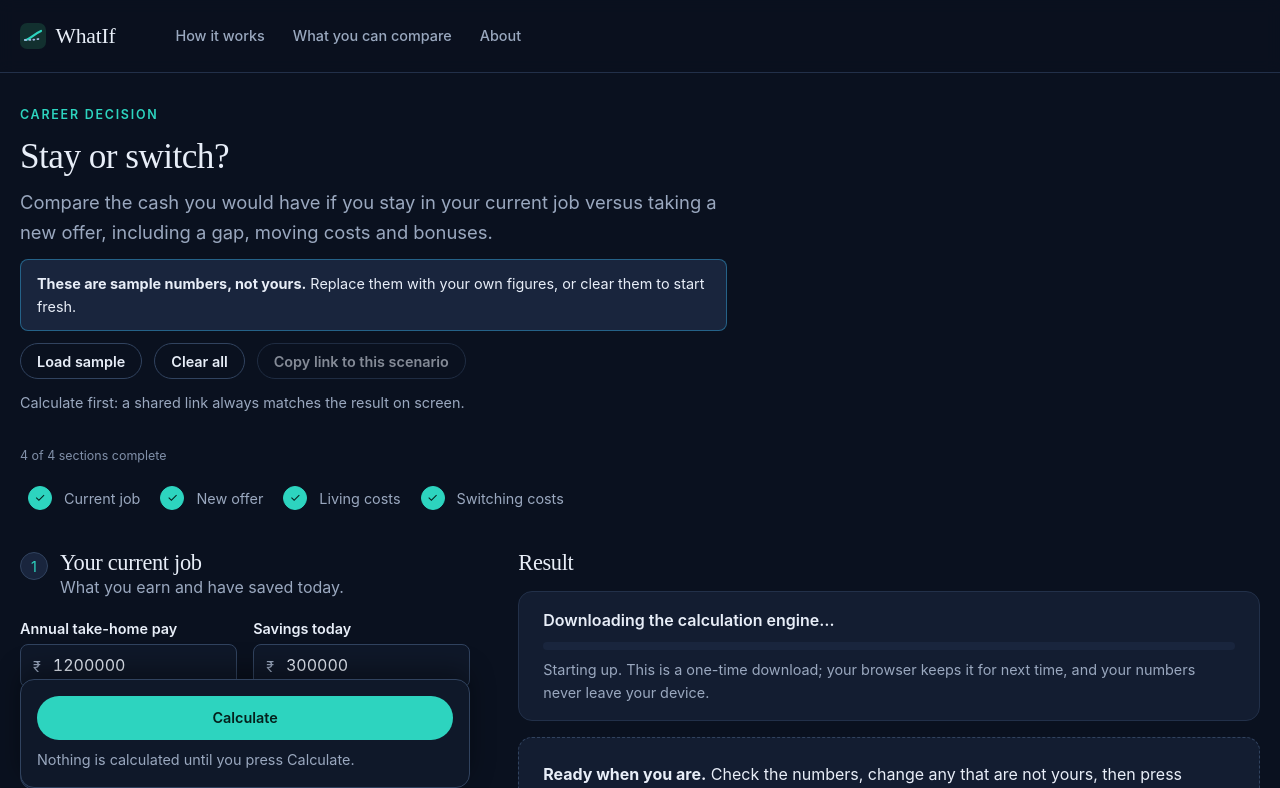
it: decision workspace › labels sample data and renders engine results when Calculate is pressed
Expected: the text "These are sample numbers, not yours." is shown, [37,275,306,292]
Click the button "Calculate". click: x=245, y=718
box: [37,696,453,740]
(page scrolled)
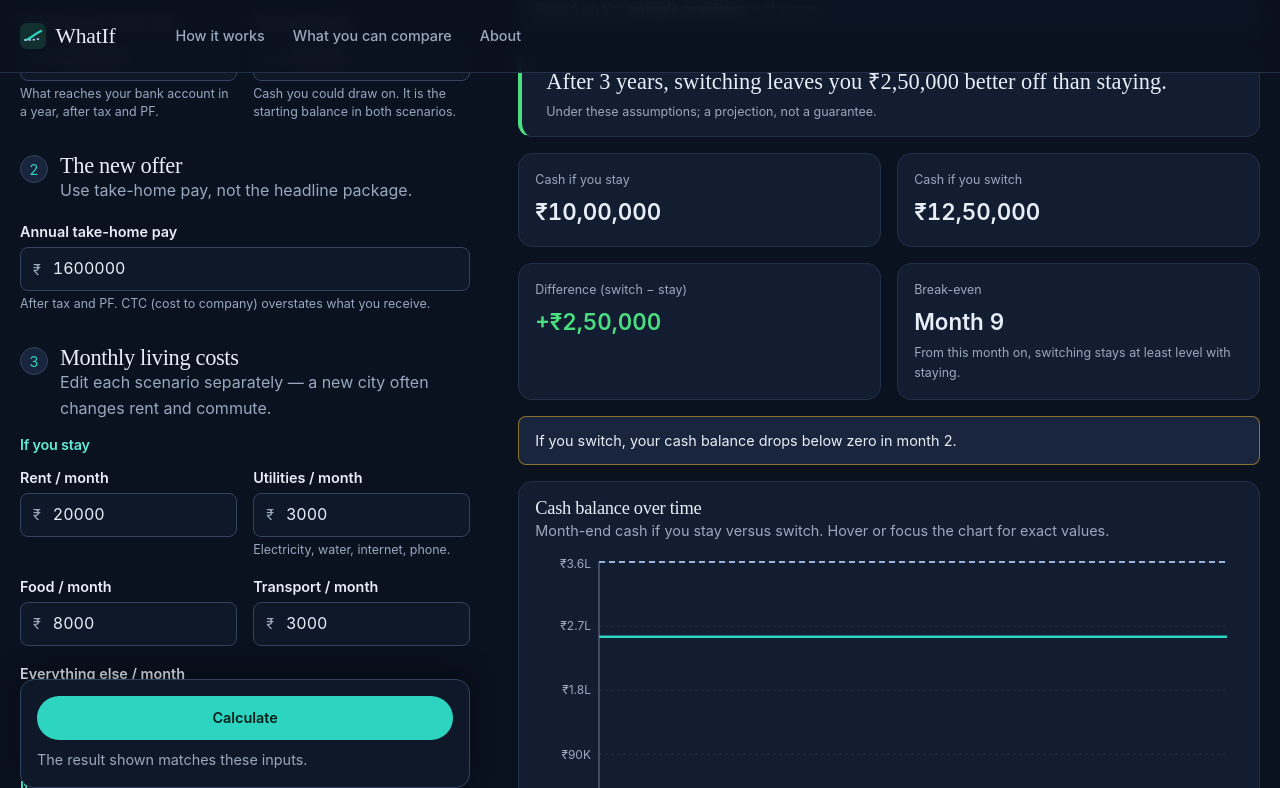
Expected: the text "₹2,50,000 better off" is shown, [546,68,1167,94]
Expected: the text "Month 9" is shown, [914,308,1004,335]
Expected: the text "drops below zero in month 2" is shown, [518,416,1260,465]
